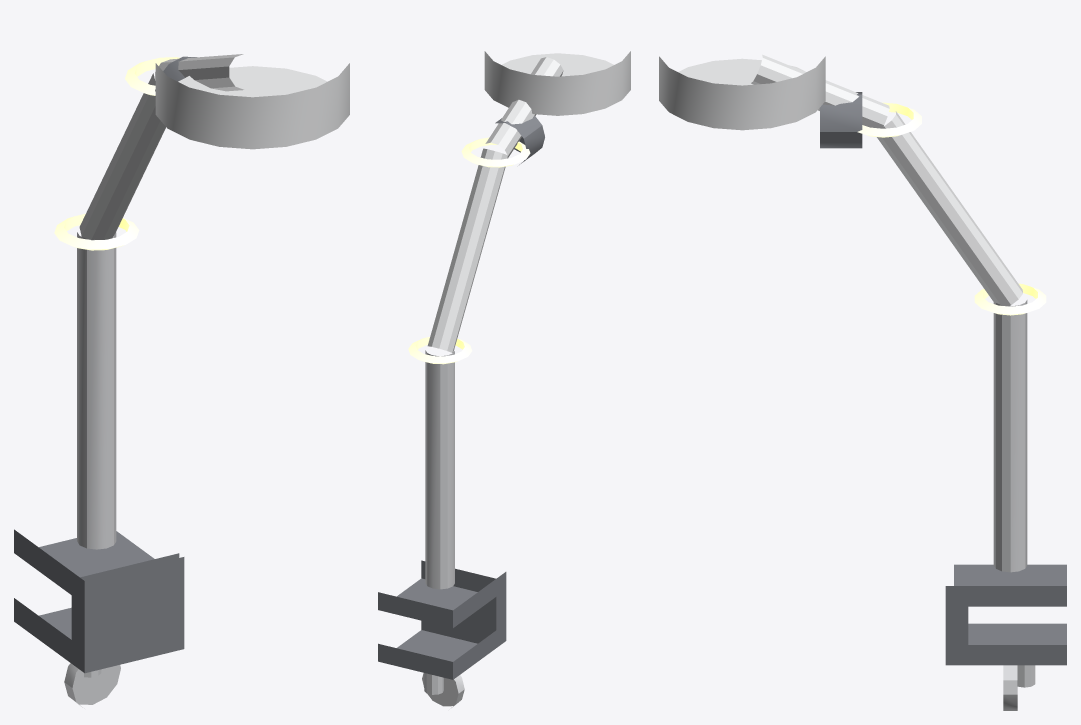
Rendered from iter_01.glb.
3 views of the same model, side by side, from view 1: azimuth 30°, elevation 25°; view 2: azimuth 150°, elevation 25°; view 3: azimuth 270°, elevation 25° (orthographic). The views are drawn at different scales.
Visible parts, largest first — view 1: Clamp, Head_Shell, Post, Arm, Latch_Lights, Clamp_Screw; view 2: Clamp, Arm, Head_Shell, Post, Latch_Lights, Clamp_Screw, Joints; view 3: Clamp, Head_Shell, Post, Arm, Joints, Latch_Lights, Clamp_Screw.
Part boxes in pixels (x1,y1,x2,y2): Clamp: (14, 529, 184, 673); Head_Shell: (155, 63, 349, 149); Post: (77, 232, 116, 549); Arm: (79, 54, 243, 240); Latch_Lights: (54, 57, 179, 250); Clamp_Screw: (64, 663, 120, 708); Clamp: (378, 560, 506, 679); Arm: (427, 57, 563, 352); Head_Shell: (484, 51, 630, 115); Post: (425, 350, 454, 589); Latch_Lights: (408, 137, 530, 364); Clamp_Screw: (422, 673, 464, 707); Joints: (495, 116, 544, 164); Clamp: (945, 564, 1066, 665); Head_Shell: (659, 56, 825, 130); Post: (993, 300, 1027, 572); Arm: (751, 54, 1022, 305); Joints: (820, 92, 862, 148); Latch_Lights: (857, 102, 1046, 315); Clamp_Screw: (1003, 665, 1035, 710).
Size of the model in its own units: 0.12 by 0.515 by 0.2891.
